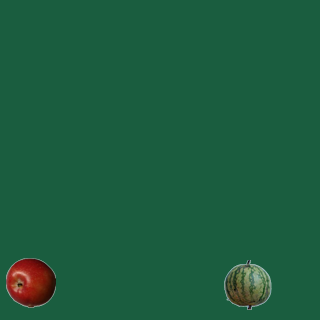Apple Braeburn: (5, 257, 55, 307)
Watermelon: (222, 259, 272, 309)
